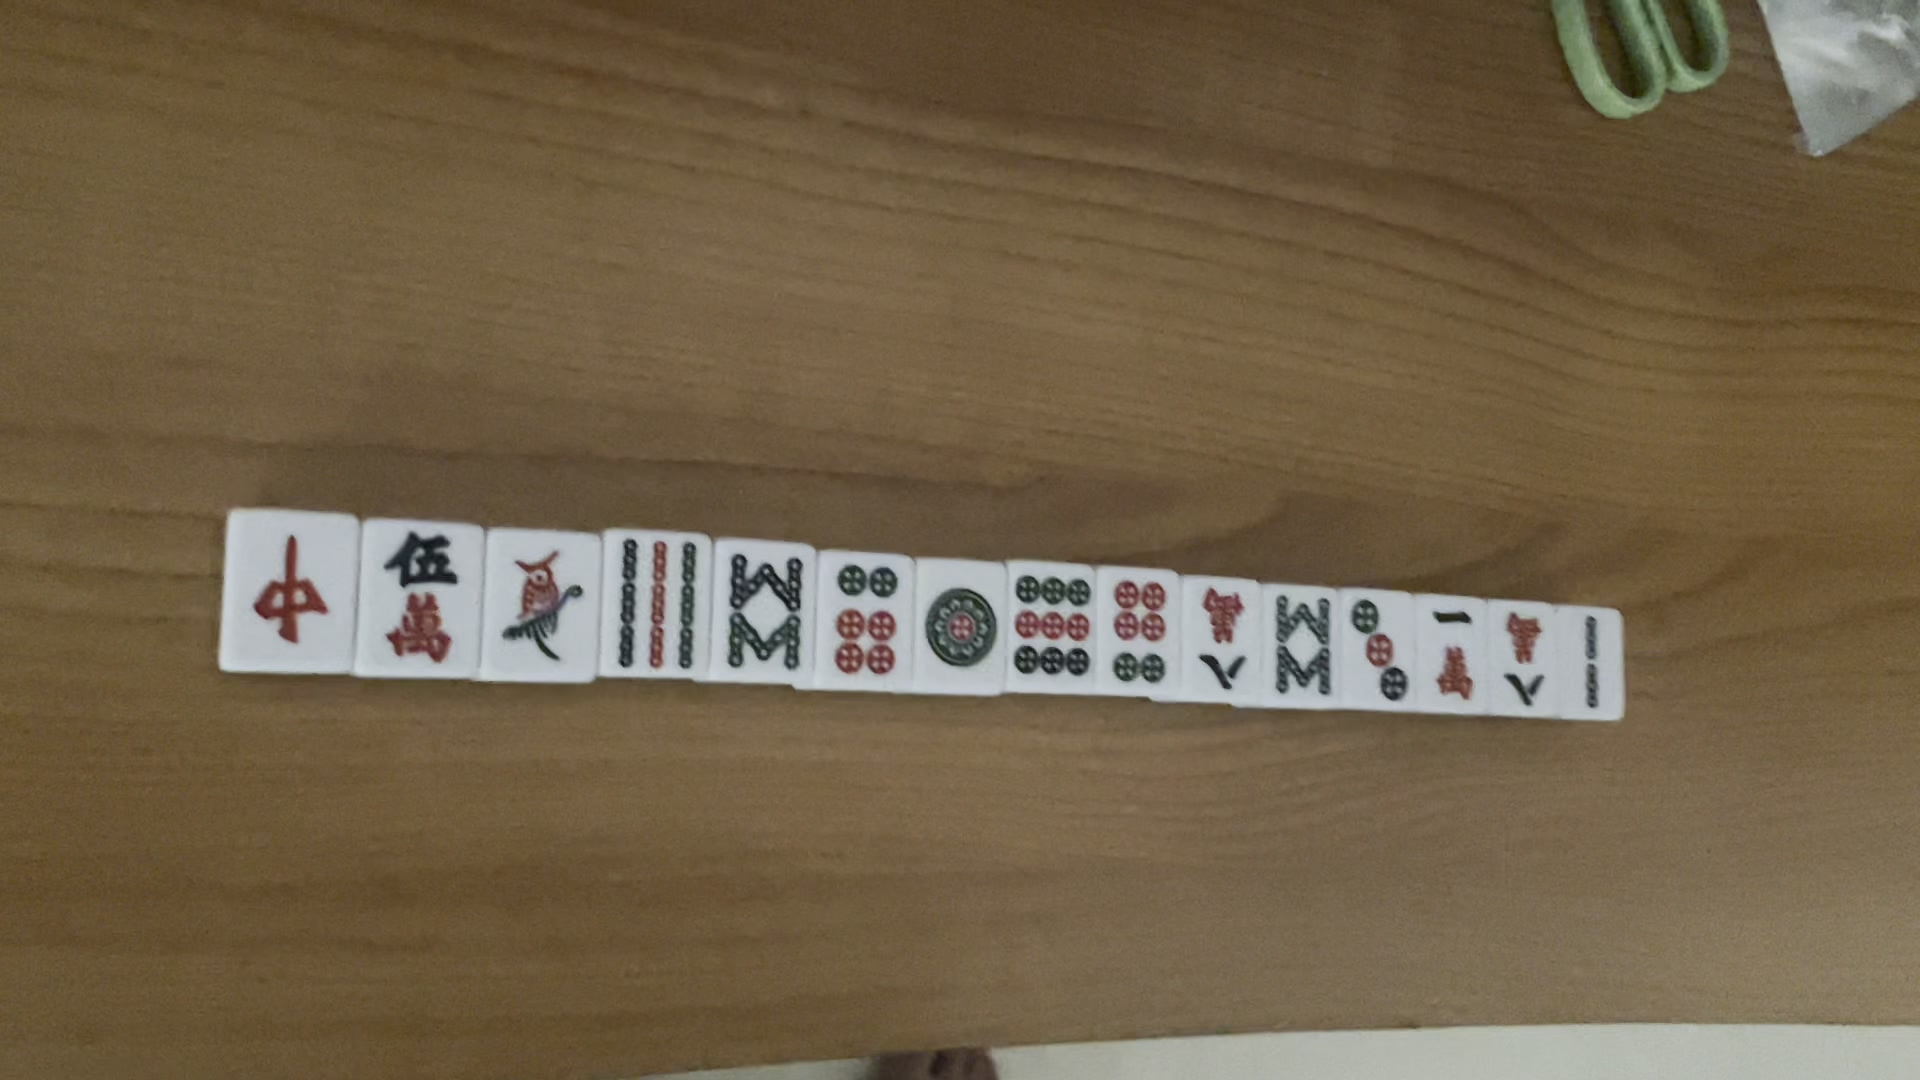b-1: (491, 541, 593, 663)
b-2: (1571, 607, 1625, 712)
b-8: (717, 545, 812, 683), (1269, 588, 1336, 692)
b-9: (613, 530, 703, 669)
c-1: (1425, 605, 1489, 688)
c-5: (365, 524, 462, 680)
c-8: (1193, 579, 1258, 691), (1495, 603, 1549, 704)
d-1: (924, 574, 994, 684)
d-3: (1352, 583, 1406, 713)
d-6: (822, 554, 899, 680), (1106, 578, 1178, 695)
d-9: (1004, 563, 1095, 679)
honors-red: (235, 521, 338, 663)
